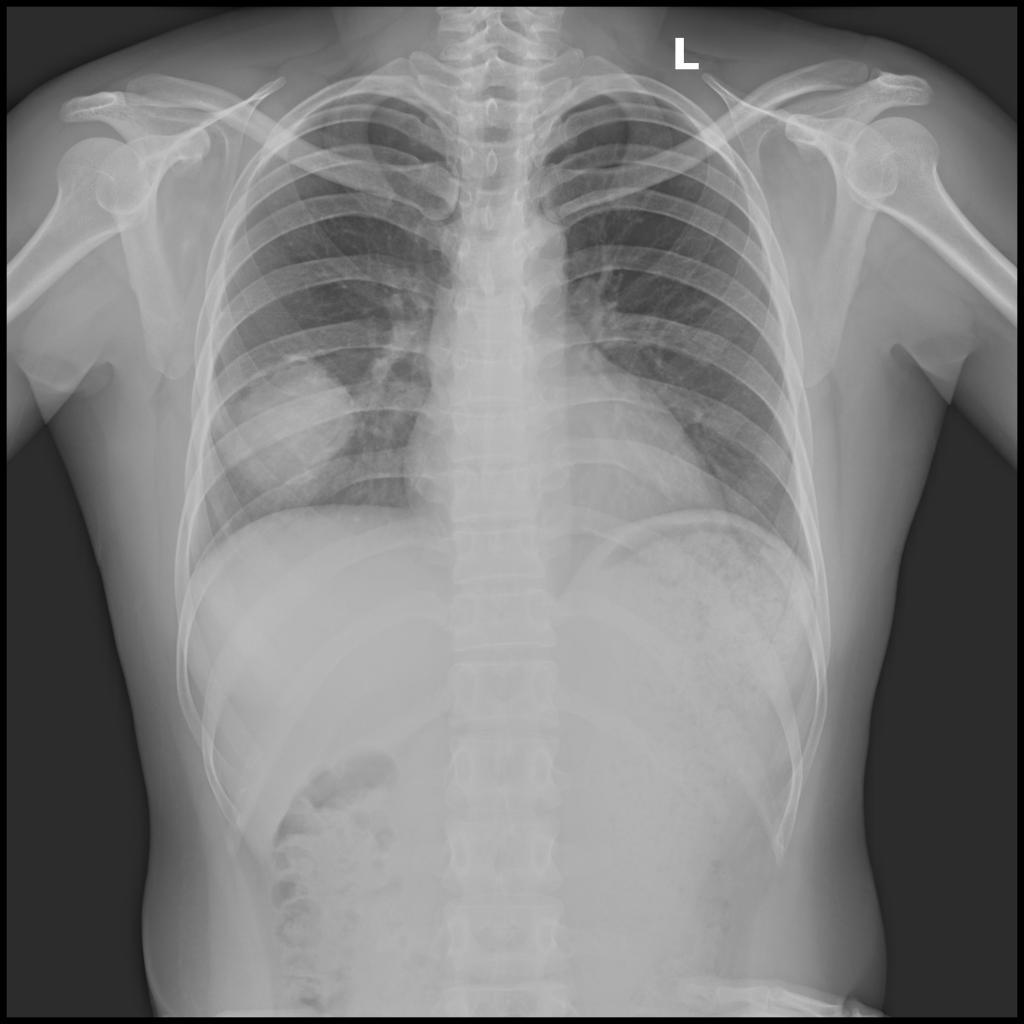Nodule: (209, 354, 363, 506)
